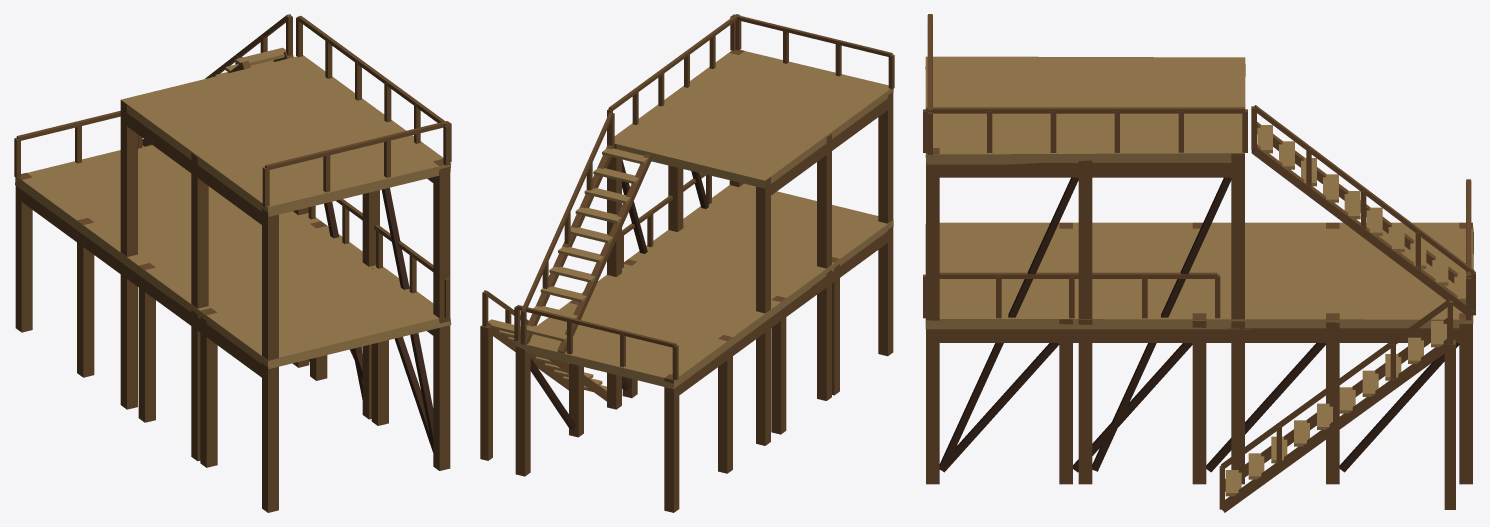
File: hull_scaffold.glb
3 views of the same model, side by side, from view 1: azimuth 30°, elevation 25°; view 2: azimuth 150°, elevation 25°; view 3: azimuth 270°, elevation 25° (orthographic). The views are drawn at different scales.
Parts seen in each view (by area): view 1: hull_scaffold; view 2: hull_scaffold; view 3: hull_scaffold.
Part boxes in pixels (x1,y1,x2,y2): hull_scaffold: (14, 14, 451, 512); hull_scaffold: (480, 14, 894, 512); hull_scaffold: (923, 14, 1475, 512).
Bounding box in the file's own units: 6.39 × 9.12 × 12.12.
